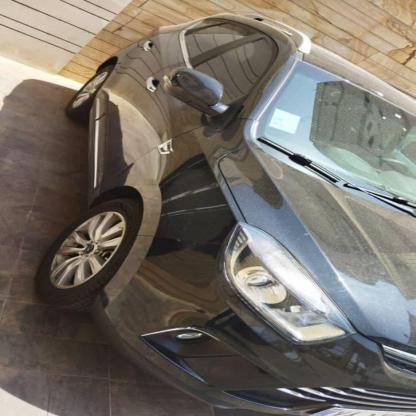Car: (0, 8, 416, 396)
